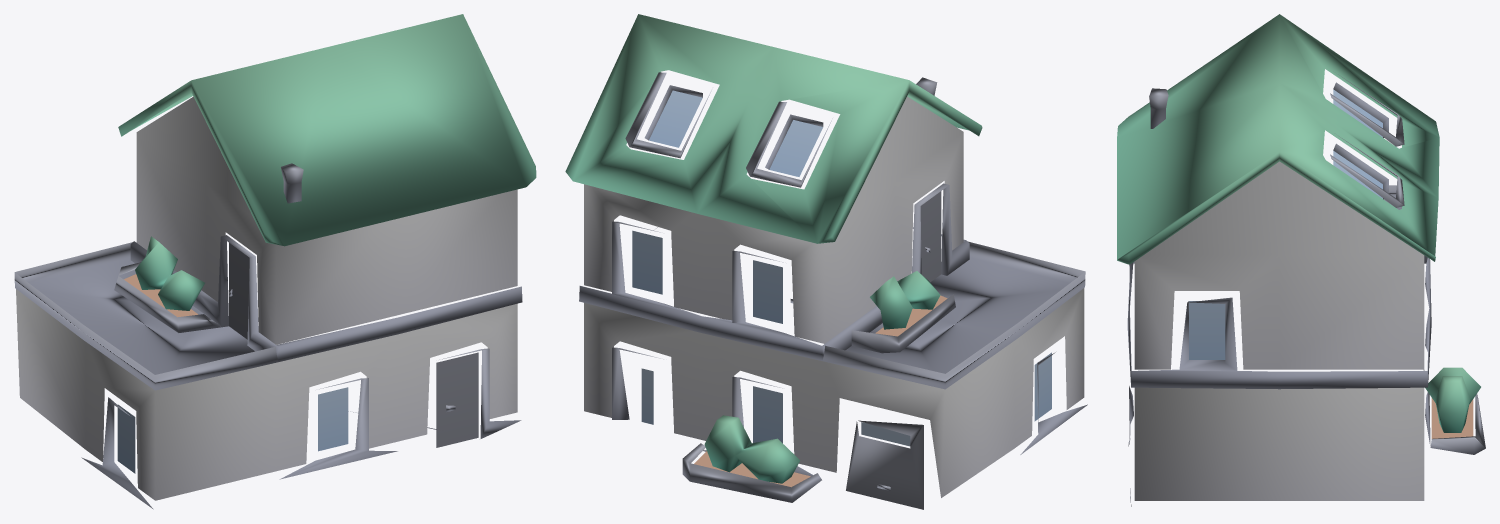
3 renders of one model, left to right at view 1: azimuth 30°, elevation 25°; view 2: azimuth 150°, elevation 25°; view 3: azimuth 270°, elevation 25°, orthographic. The views are drawn at different scales.
Bounding box in the file's own units: 10.13 × 9.1 × 8.15.
